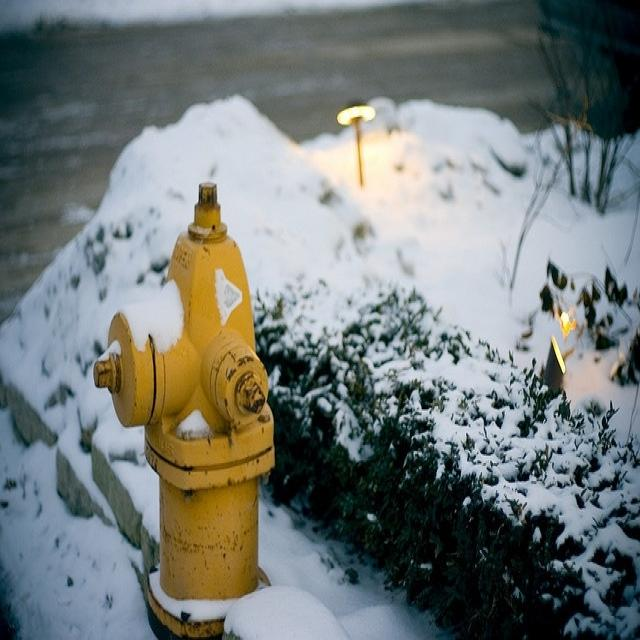fire_hydrant: (96, 142, 320, 640)
